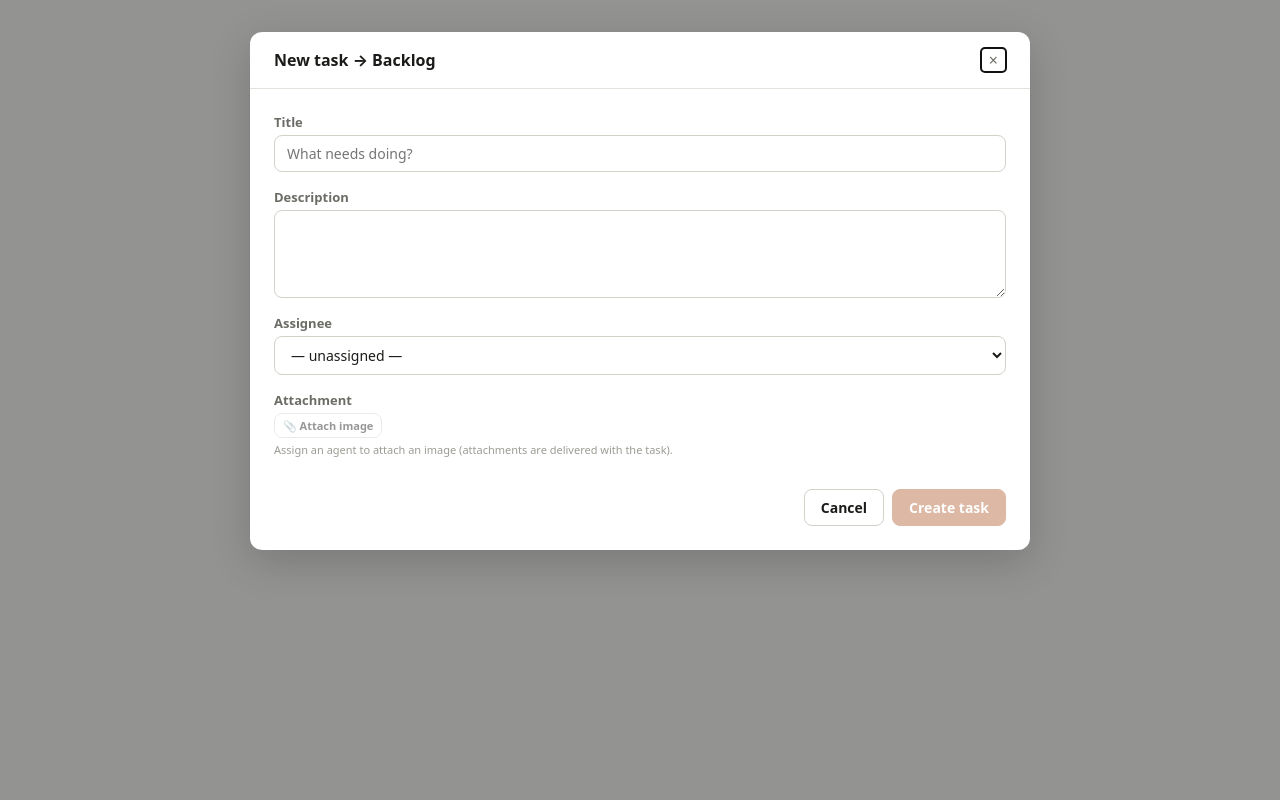
Test case: attach image (requirement 6) › is disabled until an assignee is selected
The width and height of the screenshot is (1280, 800).
Expected: the button "📎 Attach image" is disabled, [274,413,382,438]
Select "Bob" in the dropdown labelled "Assignee" at (640, 356), box [274,336,1006,375]
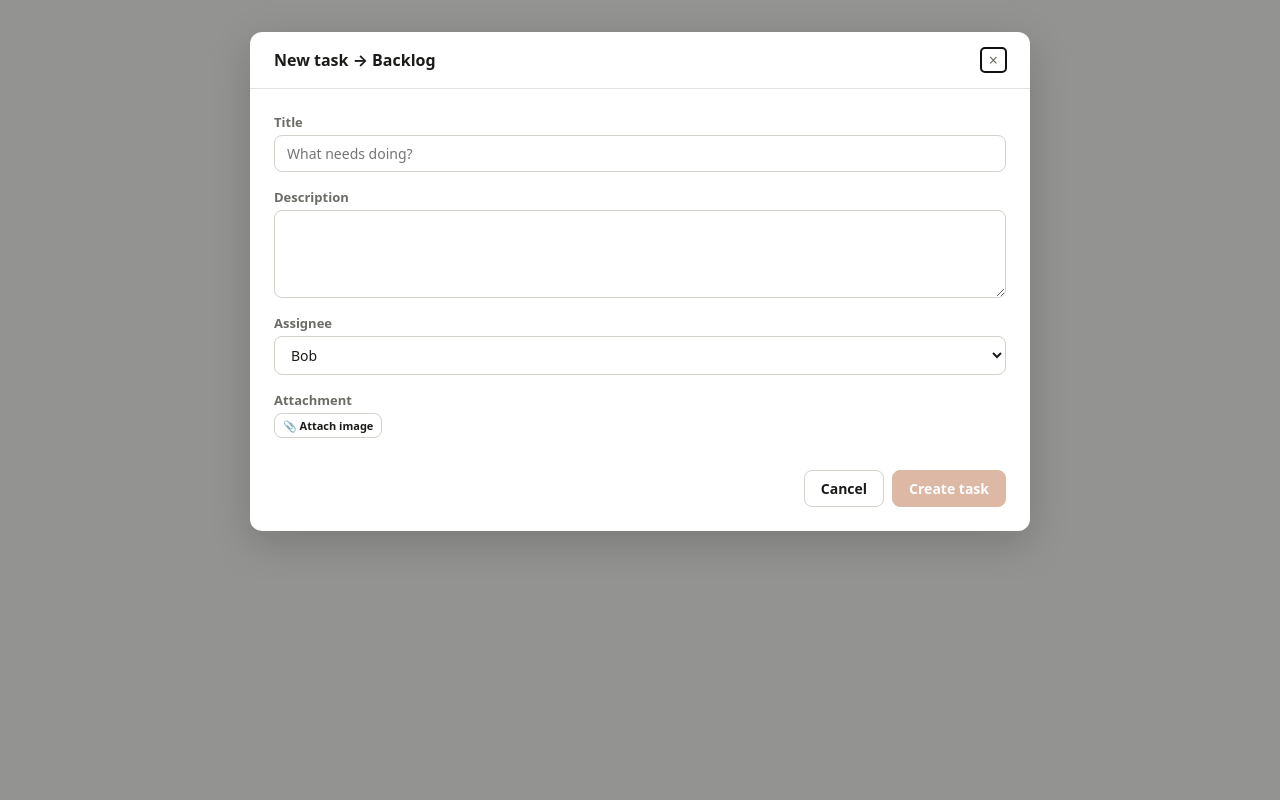
Now the button "📎 Attach image" is enabled, box [274,413,382,438]
